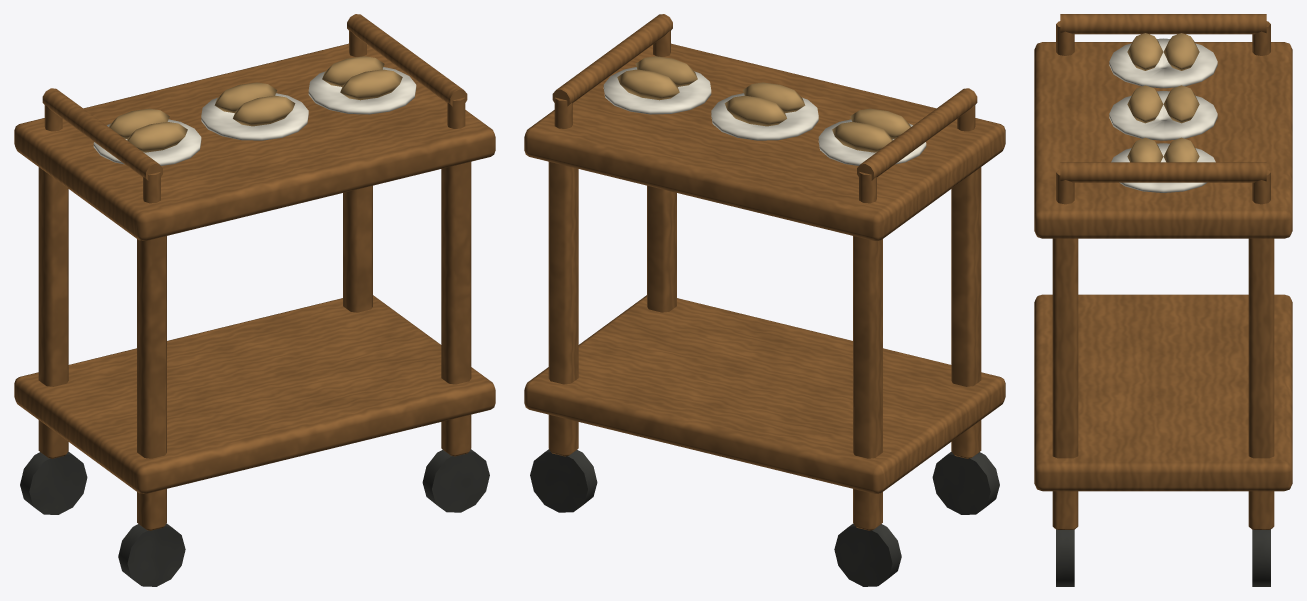
File: Furn_SnackWagon.fbx
3 renders of one model, left to right at view 1: azimuth 30°, elevation 25°; view 2: azimuth 150°, elevation 25°; view 3: azimuth 270°, elevation 25°, orthographic.
Visible parts, largest first — view 1: Furn_SnackWagon_Mesh; view 2: Furn_SnackWagon_Mesh; view 3: Furn_SnackWagon_Mesh.
Boxes of the visible parts, x1,y1,x2,y2 form: Furn_SnackWagon_Mesh: (14, 14, 495, 586); Furn_SnackWagon_Mesh: (524, 14, 1005, 586); Furn_SnackWagon_Mesh: (1034, 14, 1292, 586).
Size of the model in its own units: 0.81 by 0.9 by 0.5.
Materials: 4 (4 with a texture image).
